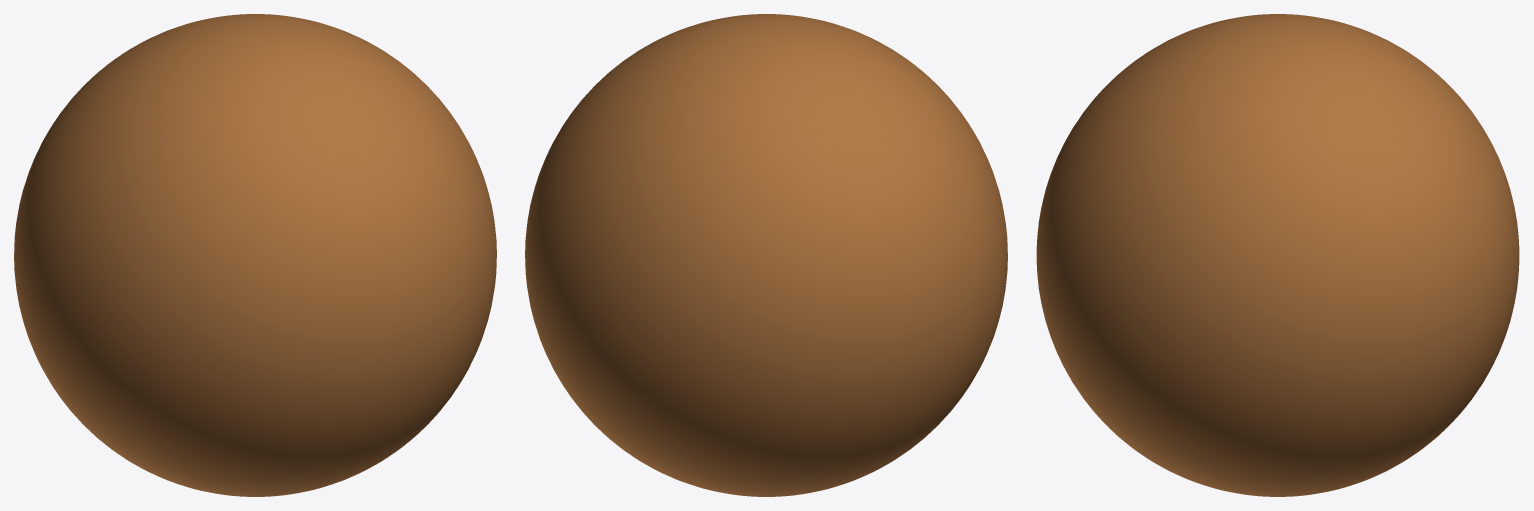
The model's file is eclipse.glb.
3 views of the same model, side by side, from view 1: azimuth 30°, elevation 25°; view 2: azimuth 150°, elevation 25°; view 3: azimuth 270°, elevation 25° (orthographic).
Visible parts, largest first — view 1: Atmosphere; view 2: Atmosphere; view 3: Atmosphere.
Part boxes in pixels (x1=…): Atmosphere: x1=14, y1=14, x2=496, y2=496; Atmosphere: x1=525, y1=14, x2=1007, y2=496; Atmosphere: x1=1036, y1=14, x2=1519, y2=496.
Size of the model in its own units: 2.04 by 2.04 by 2.04.
